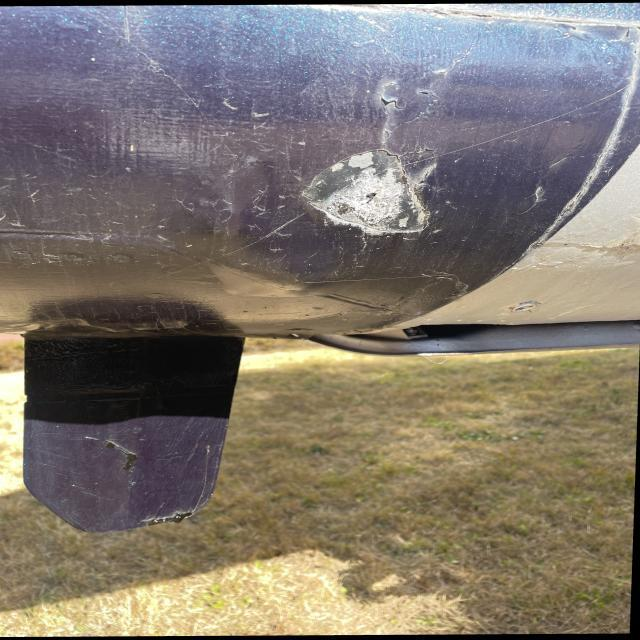crack: (377, 84, 457, 118)
dent: (301, 146, 441, 238)
